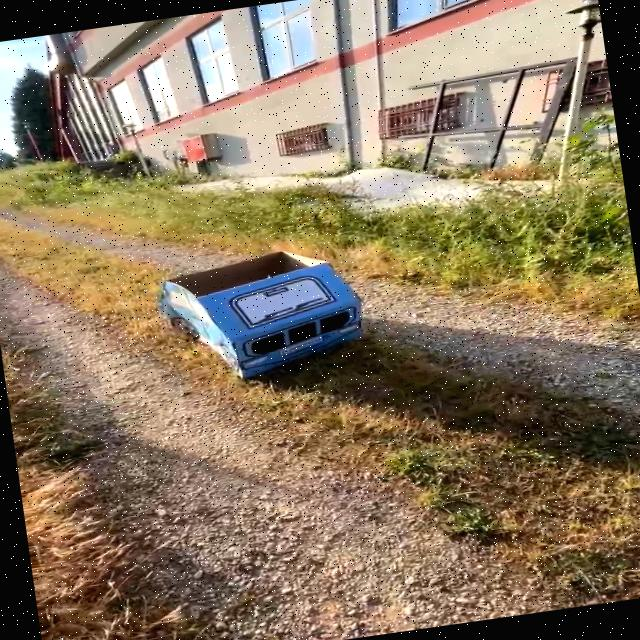blue_car: (120, 213, 422, 430)
